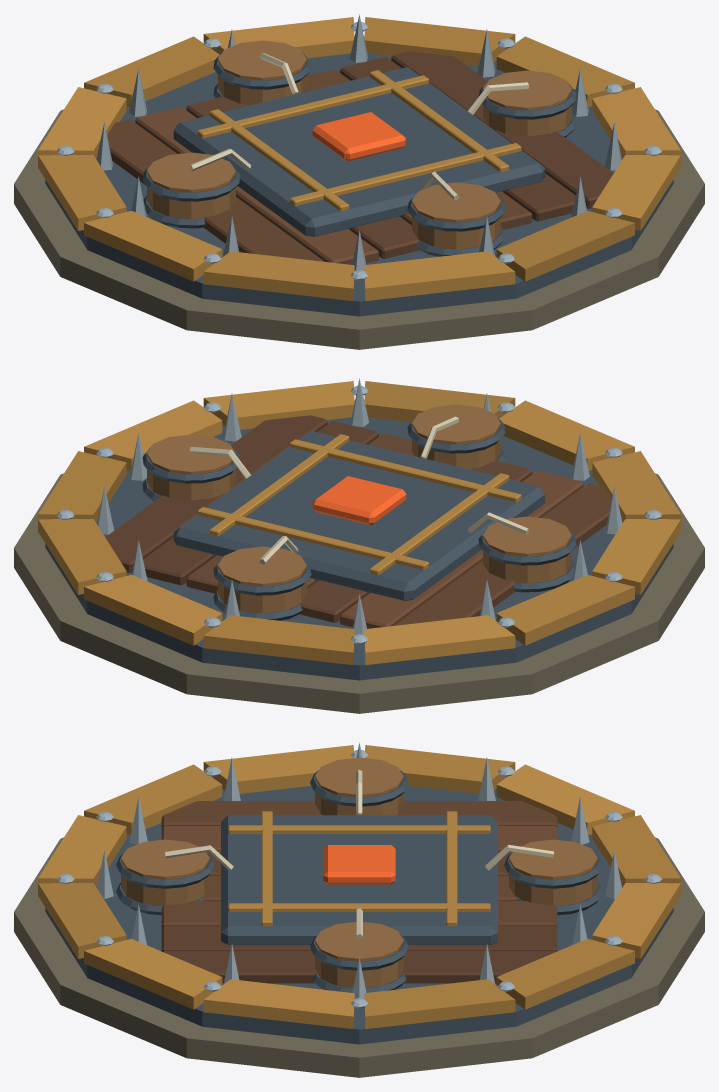
File: trap__explosiva__L10.glb
3 views of the same model, one above another, from view 1: azimuth 30°, elevation 25°; view 2: azimuth 150°, elevation 25°; view 3: azimuth 270°, elevation 25° (orthographic).
Visible parts, largest first — view 1: structure, weapon; view 2: structure, weapon; view 3: structure, weapon.
Part boxes in pixels (x1=…): structure: x1=14, y1=17, x2=704, y2=349; weapon: x1=96, y1=14, x2=621, y2=270; structure: x1=14, y1=381, x2=704, y2=713; weapon: x1=97, y1=378, x2=622, y2=634; structure: x1=14, y1=745, x2=704, y2=1077; weapon: x1=97, y1=742, x2=621, y2=998.
Size of the model in its own units: 0.8228 by 0.1139 by 0.8228.
